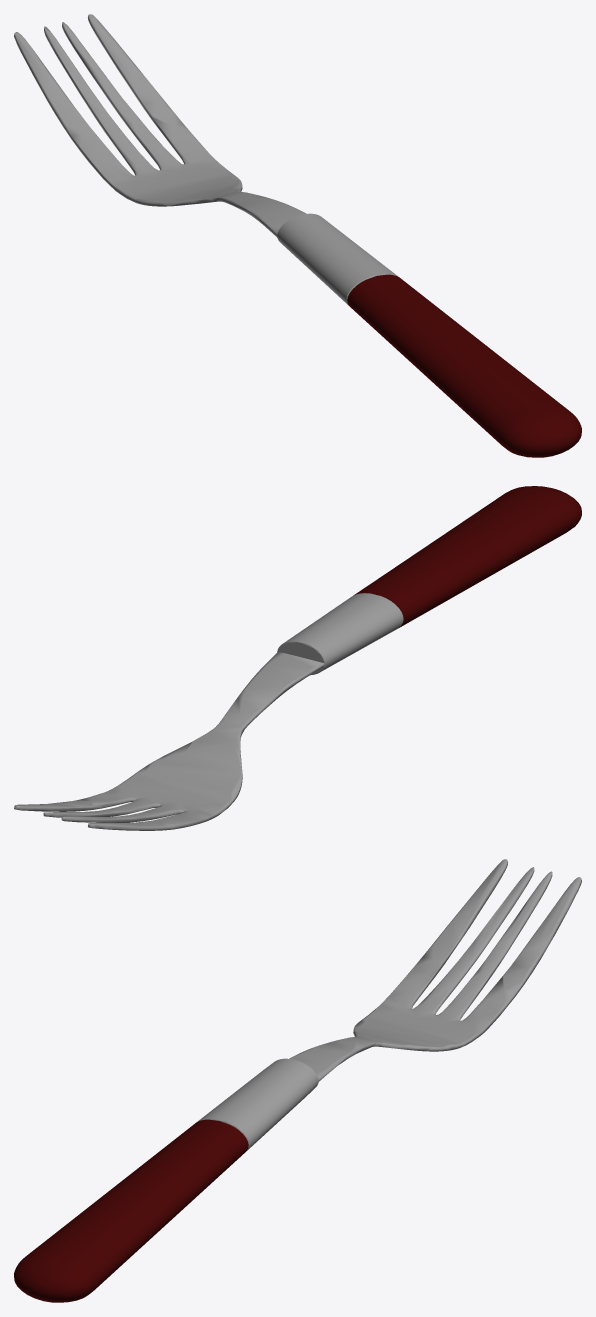
Rendered from Fork.FBX.
3 renders of one model, top to bottom at view 1: azimuth 30°, elevation 25°; view 2: azimuth 150°, elevation 25°; view 3: azimuth 330°, elevation 25°, orthographic.
Parts seen in each view (by area): view 1: fork; view 2: fork; view 3: fork.
Boxes of the visible parts, x1,y1,x2,y2 form: fork: (14,14,581,457); fork: (14,486,581,830); fork: (14,859,581,1302).
Size of the model in its own units: 2.55 by 1.71 by 21.6.
